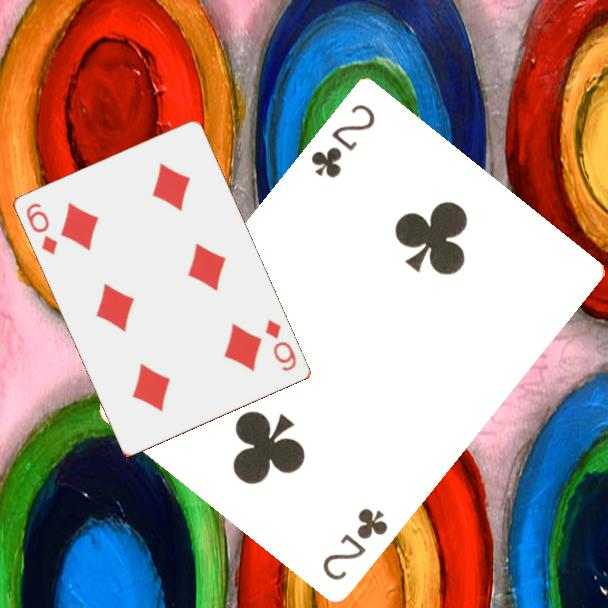c02: (307, 101, 379, 182), (319, 505, 391, 585)
d06: (22, 199, 60, 258), (261, 315, 299, 374)
